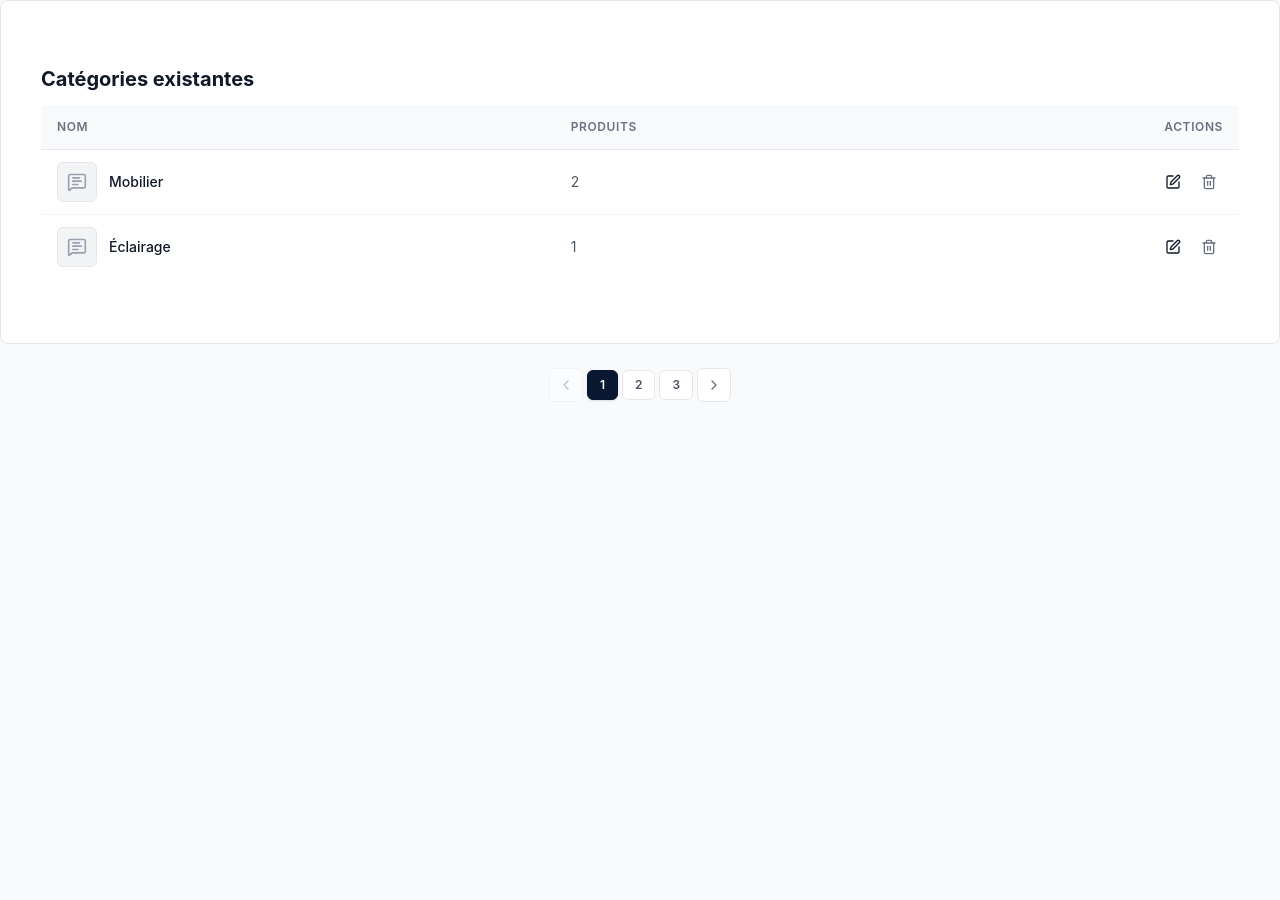
it: AdminCategoryTable — suppression › affiche le message d'erreur de l'API en cas d'échec
This screenshot has width=1280, height=900.
Click the button named "supprimer mobilier". click: click(1209, 182)
box: [1195,168,1223,196]
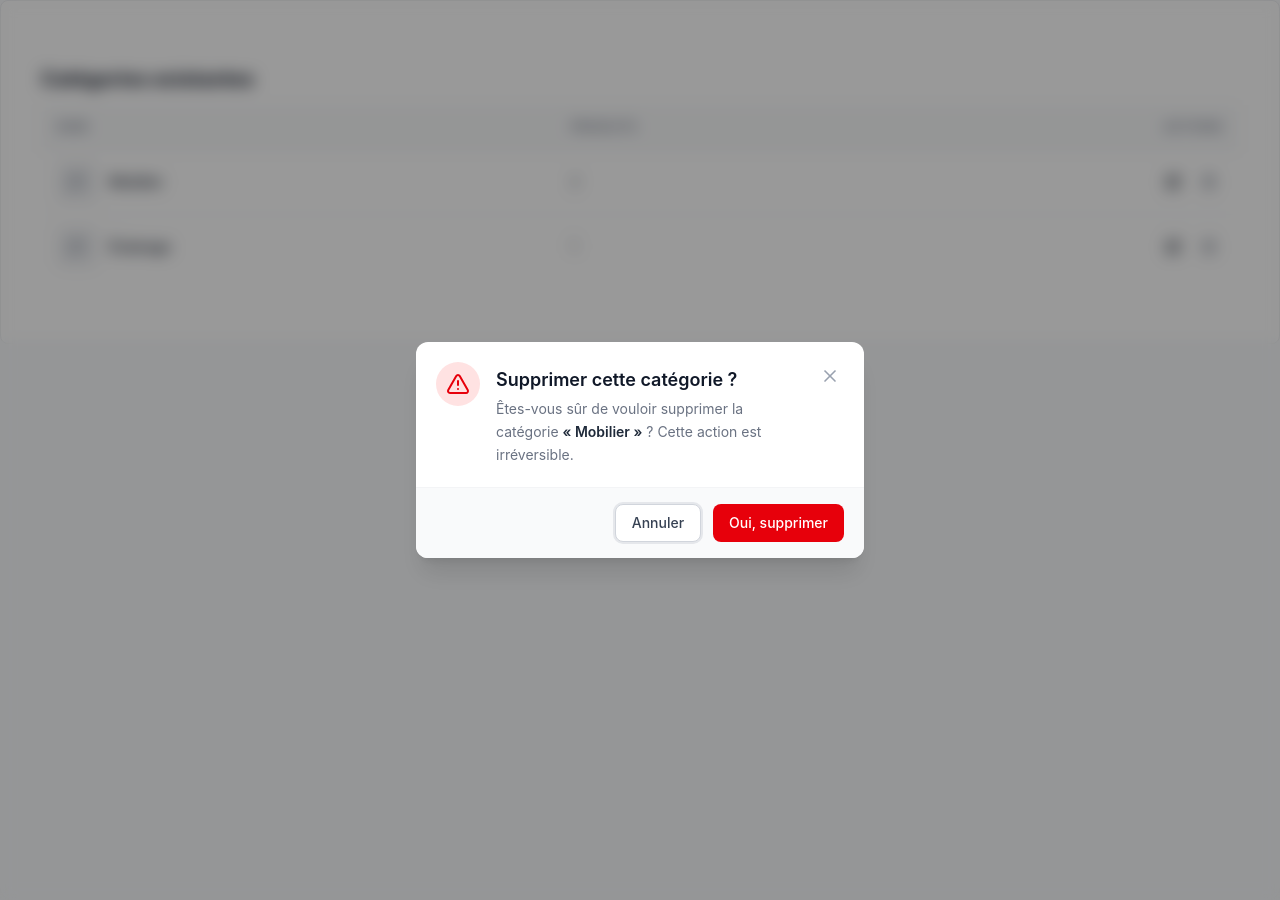
Click the button "Oui, supprimer". click: click(779, 523)
box: [713,504,844,542]
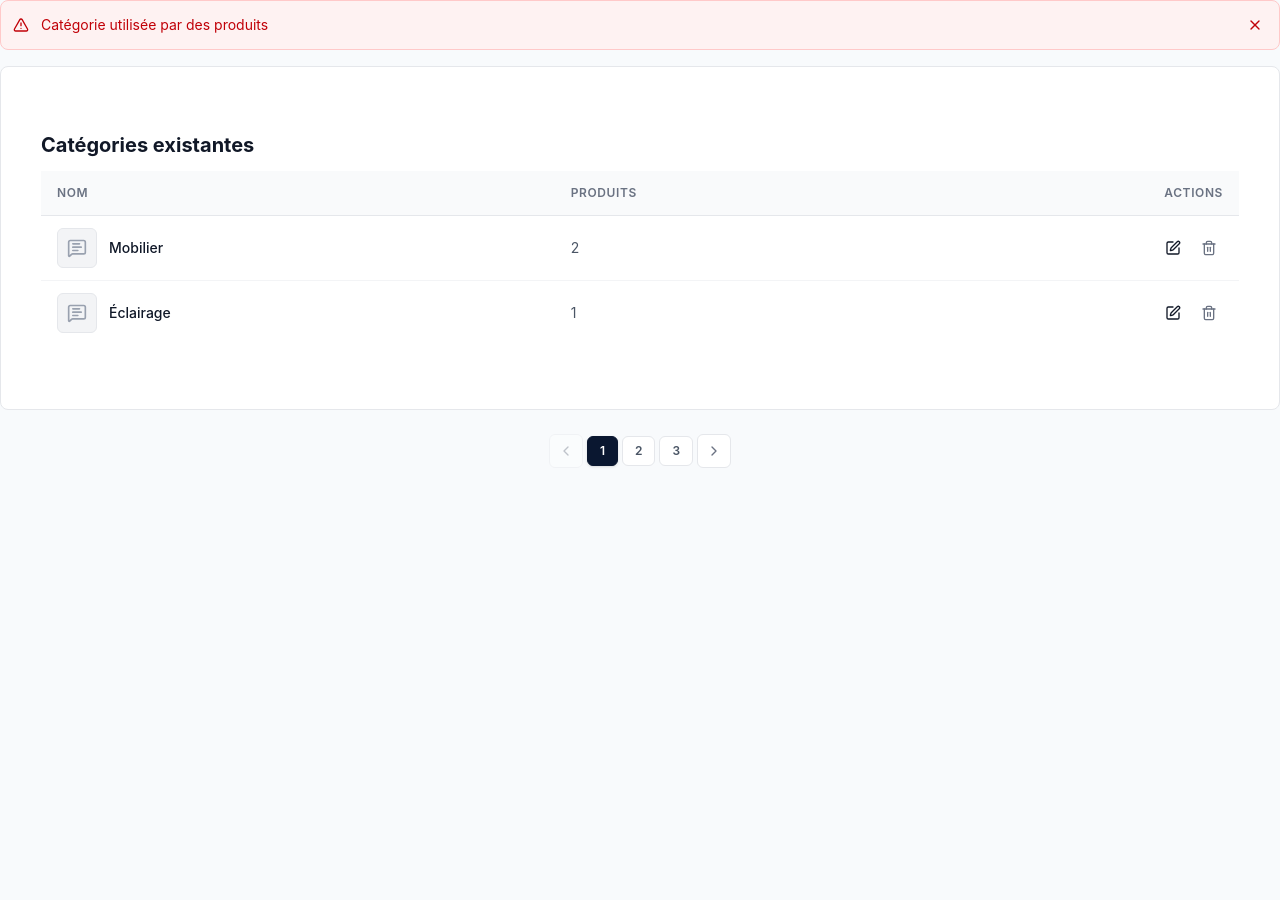
Expected: the message reads "Catégorie utilisée par des produits", [41,16,268,33]
